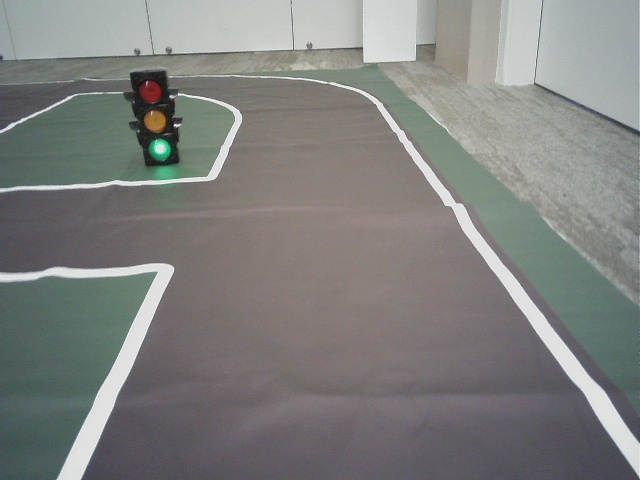green: (133, 73, 176, 163)
